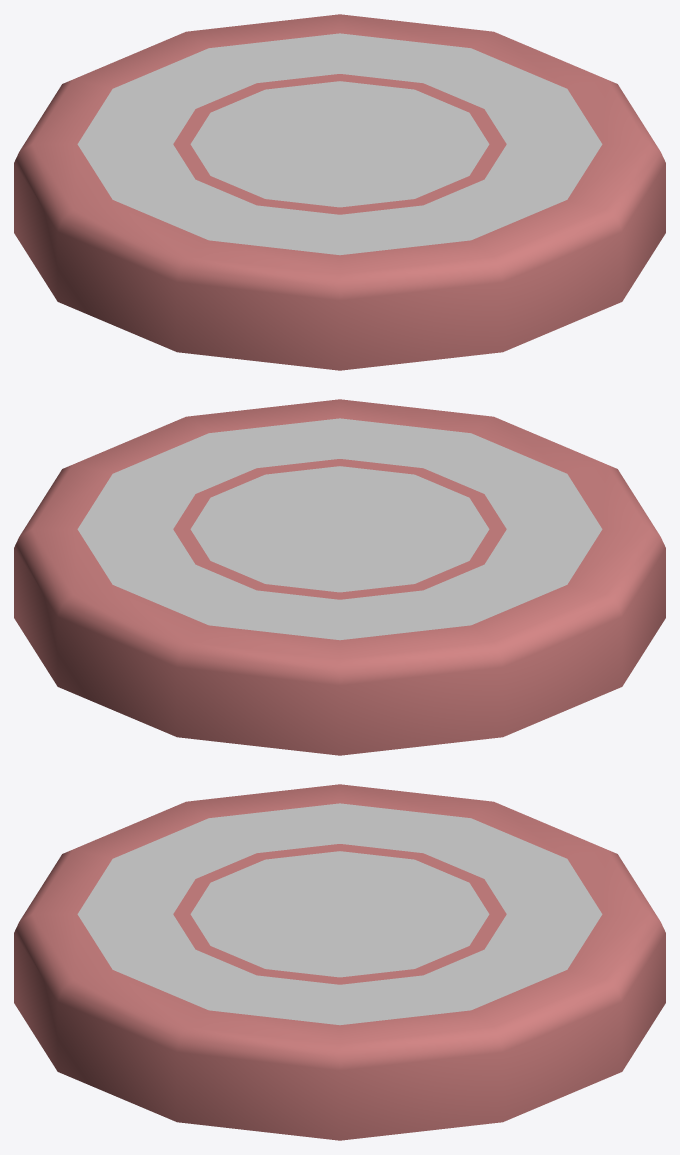
Rendered from Circle Start Finish.fbx.
3 views of the same model, one above another, from view 1: azimuth 30°, elevation 25°; view 2: azimuth 150°, elevation 25°; view 3: azimuth 270°, elevation 25° (orthographic).
Parts seen in each view (by area): view 1: Disk_Finish; view 2: Disk_Finish; view 3: Disk_Finish.
Boxes of the visible parts, bbox=[...] form: Disk_Finish: bbox=[14, 14, 665, 370]; Disk_Finish: bbox=[14, 399, 665, 755]; Disk_Finish: bbox=[14, 784, 665, 1140].
Bounding box in the file's own units: 600 × 90 × 600.
